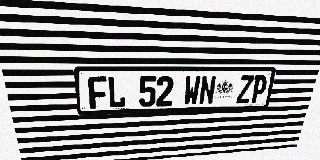2: (156, 76, 174, 106)
5: (139, 76, 157, 107)
F: (88, 76, 108, 109)
L: (107, 76, 126, 108)
N: (198, 76, 217, 105)
P: (250, 75, 268, 103)
W: (183, 76, 201, 105)
Z: (236, 75, 254, 104)
